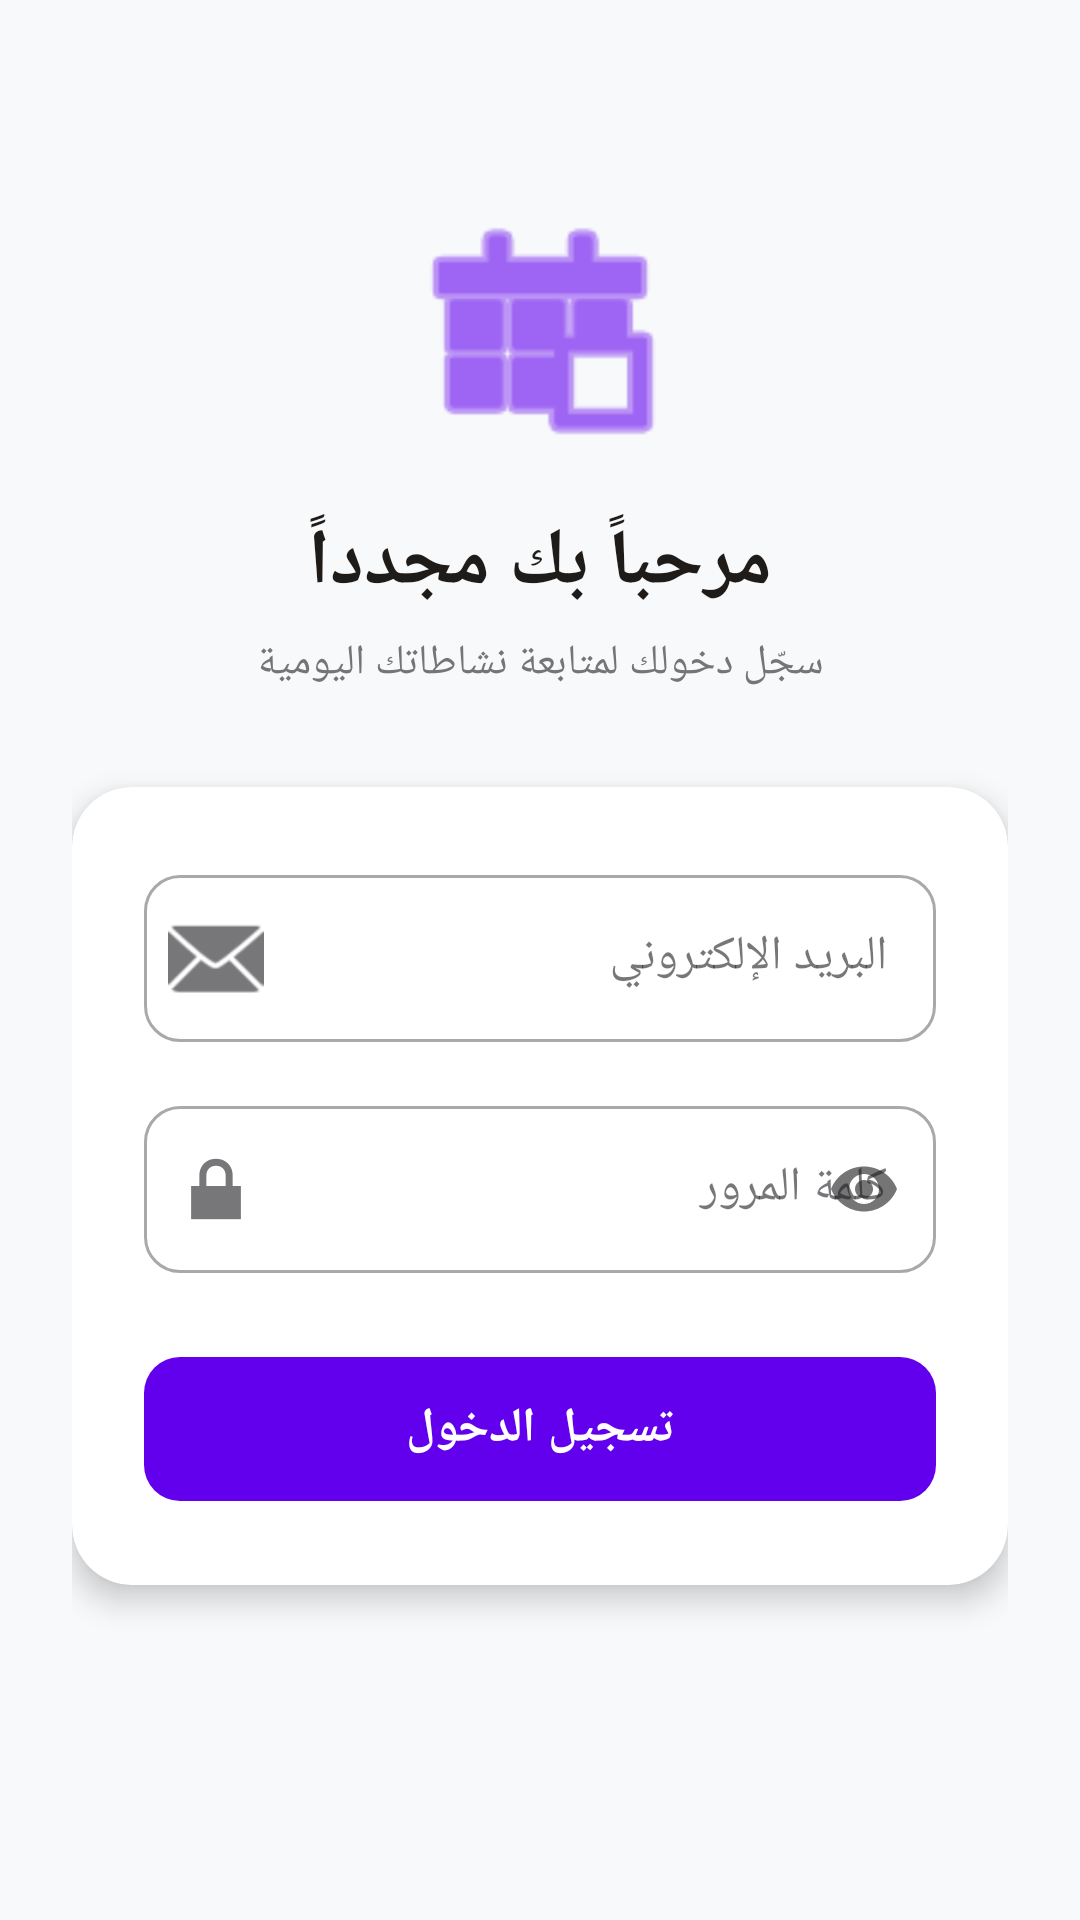

Where to tap for icons on this 1080×1920 app screen, as (x,y):
today: (543,331)
